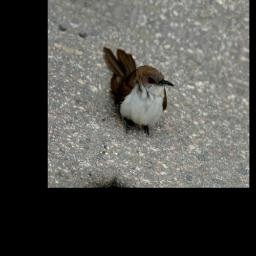Cuckoo: (85, 43, 179, 146)
